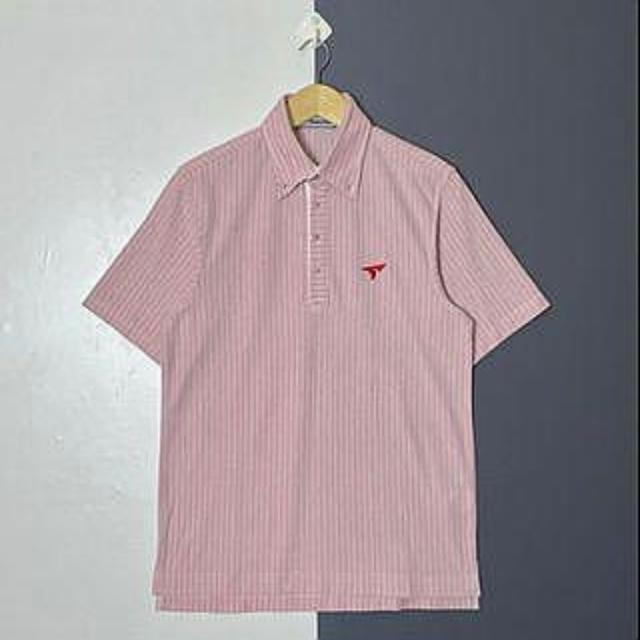T_SHIRT: (64, 78, 566, 617)
